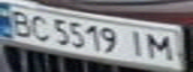1: (81, 22, 103, 52)
5: (48, 16, 72, 47), (66, 20, 87, 50)
9: (96, 25, 121, 55)
B: (3, 7, 36, 37)
C: (24, 12, 54, 42)
I: (121, 28, 151, 57)
M: (142, 29, 181, 62)
